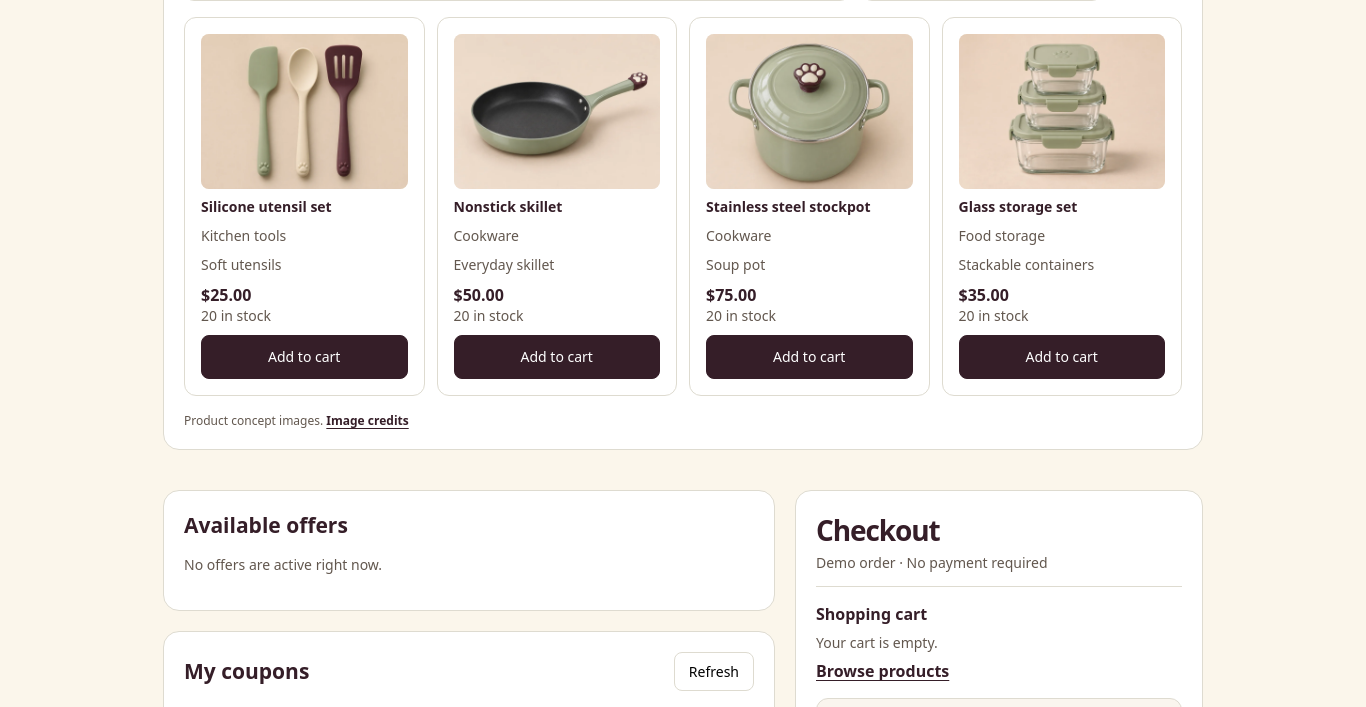
Scenario: refreshes a stale CSRF token and retries the identical checkout request once
The width and height of the screenshot is (1366, 707).
(page scrolled)
What coordinates should you click on to do the following:
click the button with aria-label "Add Nonstick skillet to cart"
I would click on:
 (557, 357)
Its box is left=454, top=335, right=660, bottom=379.
(page scrolled)
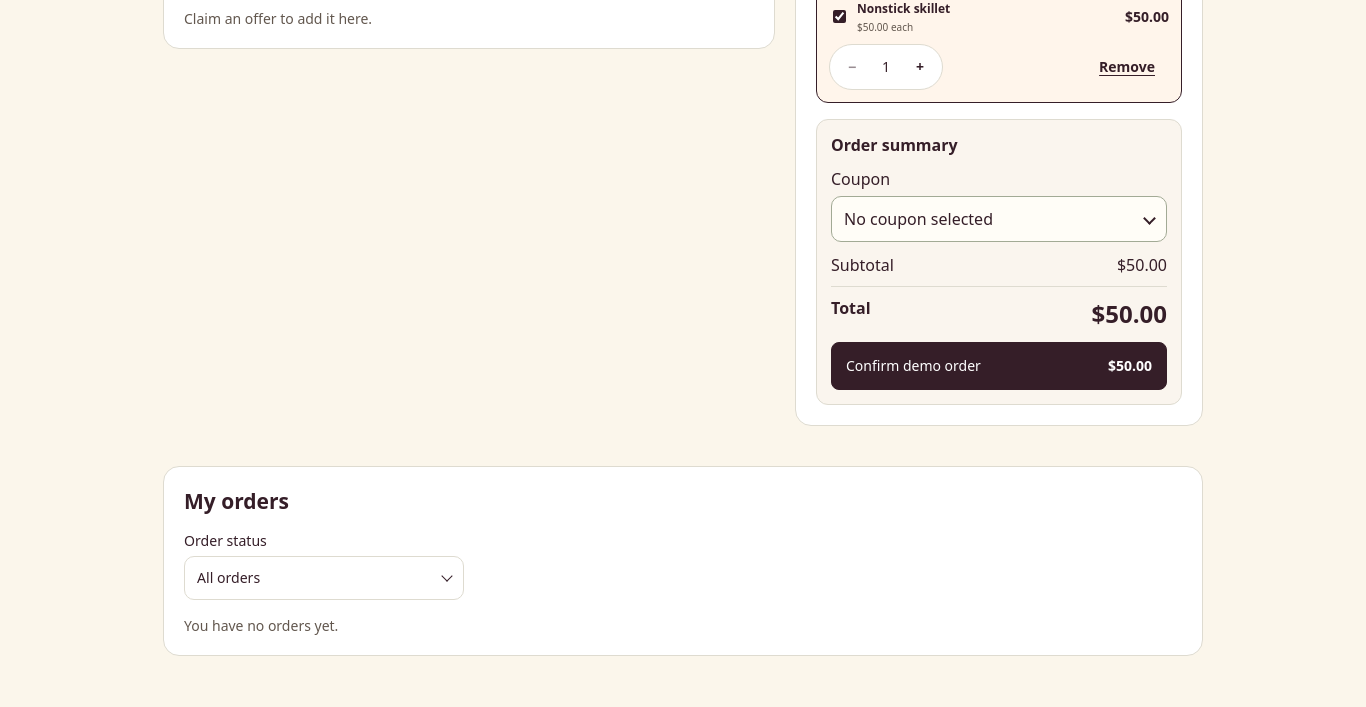
What coordinates should you click on to do the following:
click the button "Confirm demo order $50.00"
I would click on:
 (913, 366)
Its box is left=831, top=342, right=1167, bottom=390.
(page scrolled)
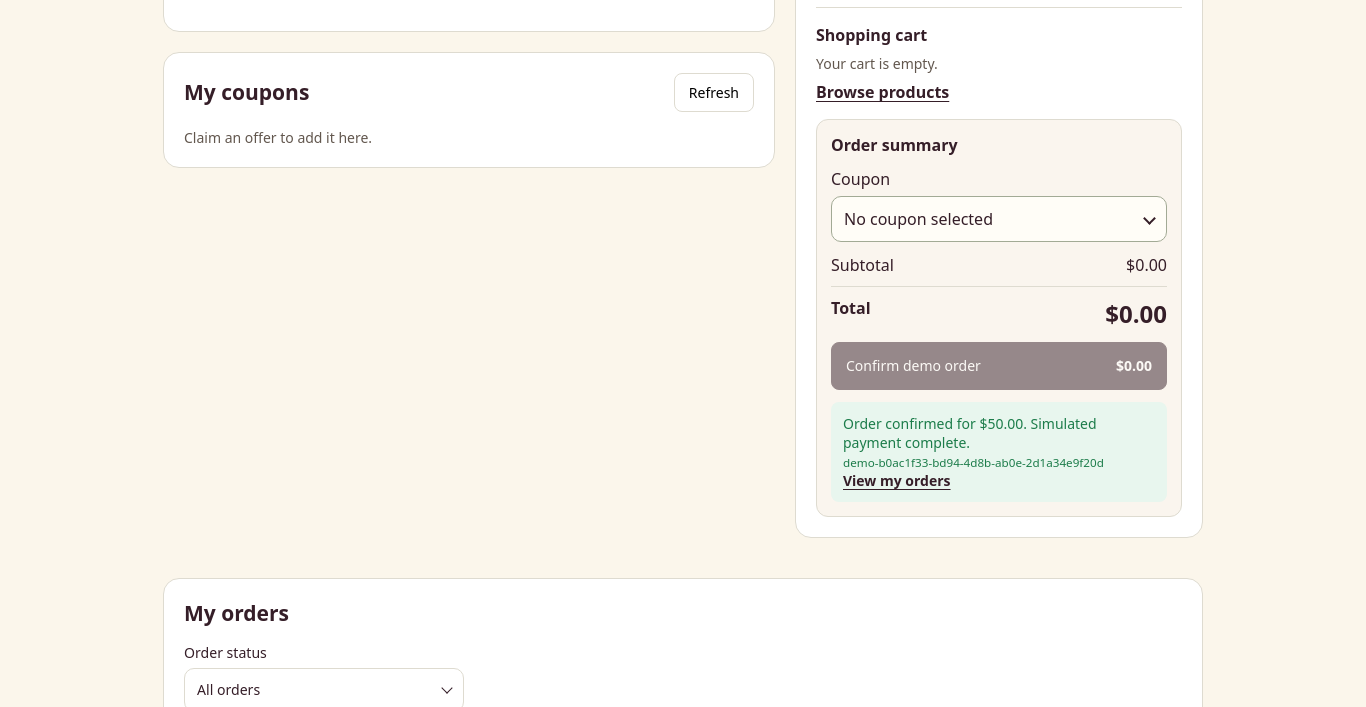
Expected: the text "Order confirmed for $50.00" is shown, left=831, top=402, right=1167, bottom=502
